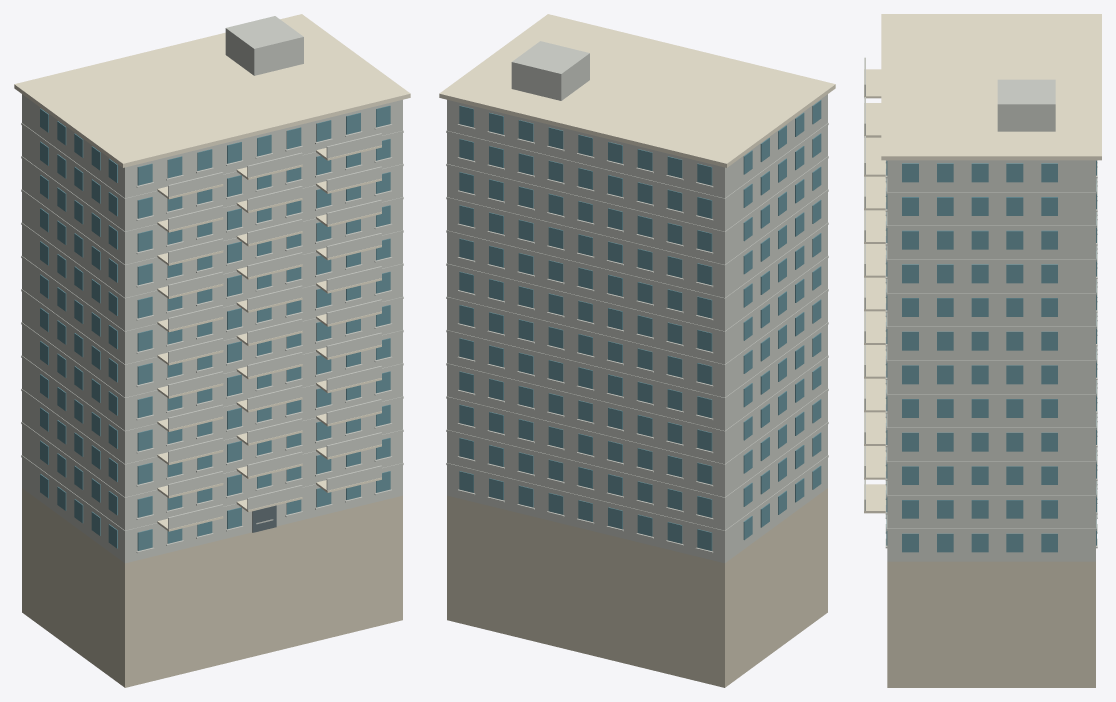
The model's file is apartment-3.glb.
3 views of the same model, side by side, from view 1: azimuth 30°, elevation 25°; view 2: azimuth 150°, elevation 25°; view 3: azimuth 270°, elevation 25° (orthographic).
Bounding box in the file's own units: 29 × 53.4 × 20.5.
